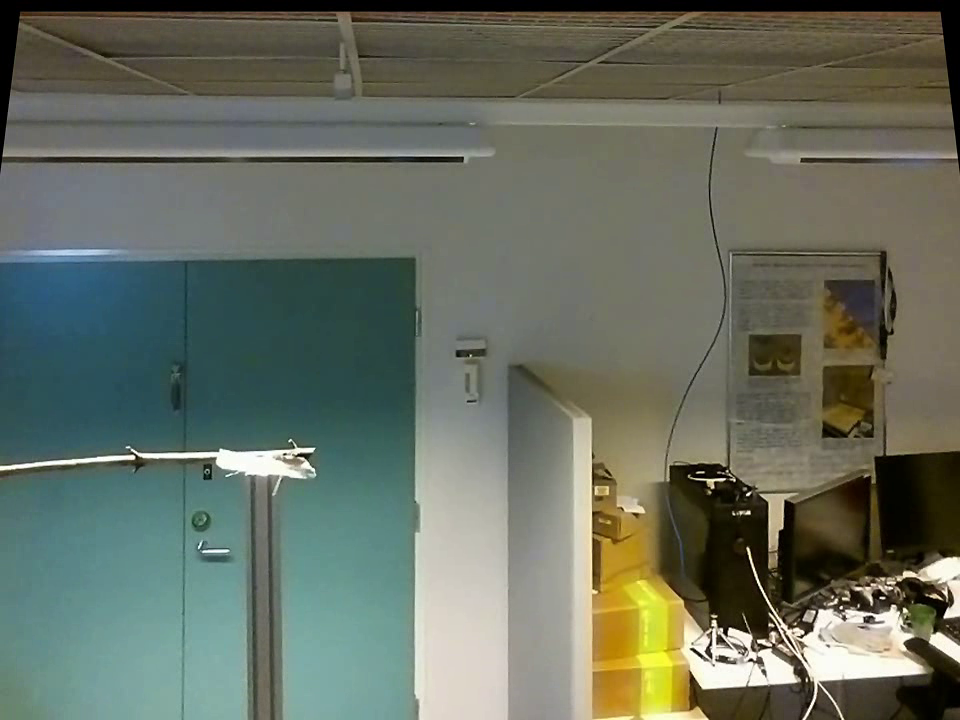aluminum_frame: (236, 474, 285, 718)
branch: (2, 433, 206, 489)
